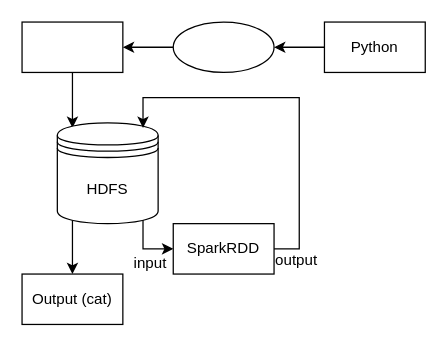
This 447x347 diagram has some shape labels left out. The shapes that lost their labels are listed below. From the top down, each one's centre as x and y in pixels, then its label:
At (x=72, y=46): "Flume".
At (x=223, y=46): "Exec".
